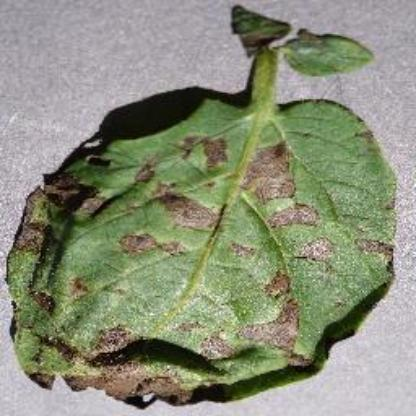Early-Blight: (6, 8, 400, 408)
